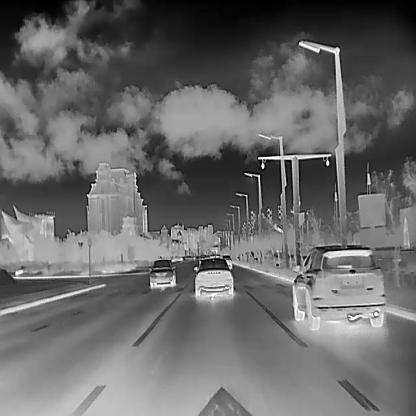car: (292, 243, 386, 328), (192, 254, 233, 300), (147, 258, 175, 288), (221, 254, 231, 268)
